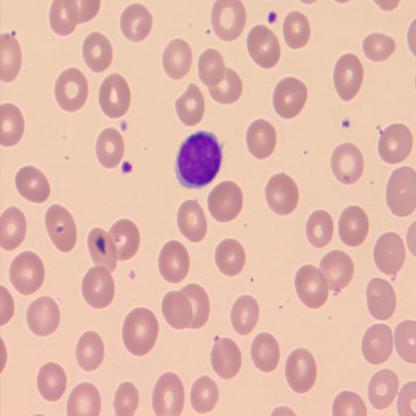Lymphocyte: (174, 129, 224, 190)
